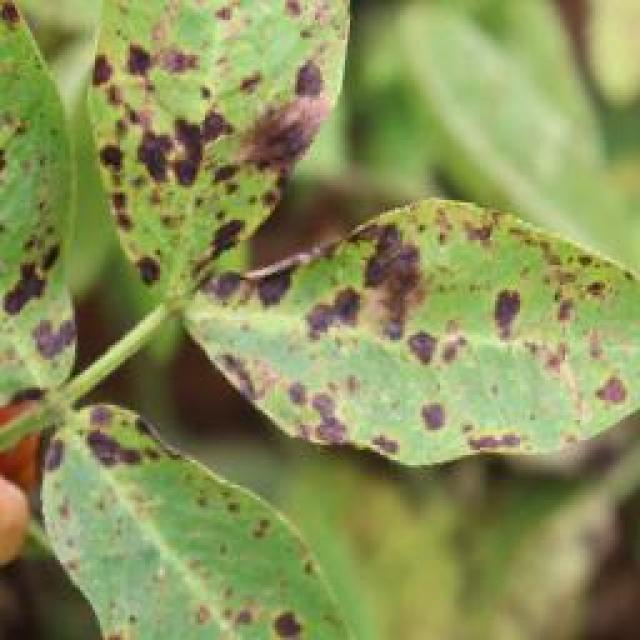Yellowish: (0, 0, 636, 640)
